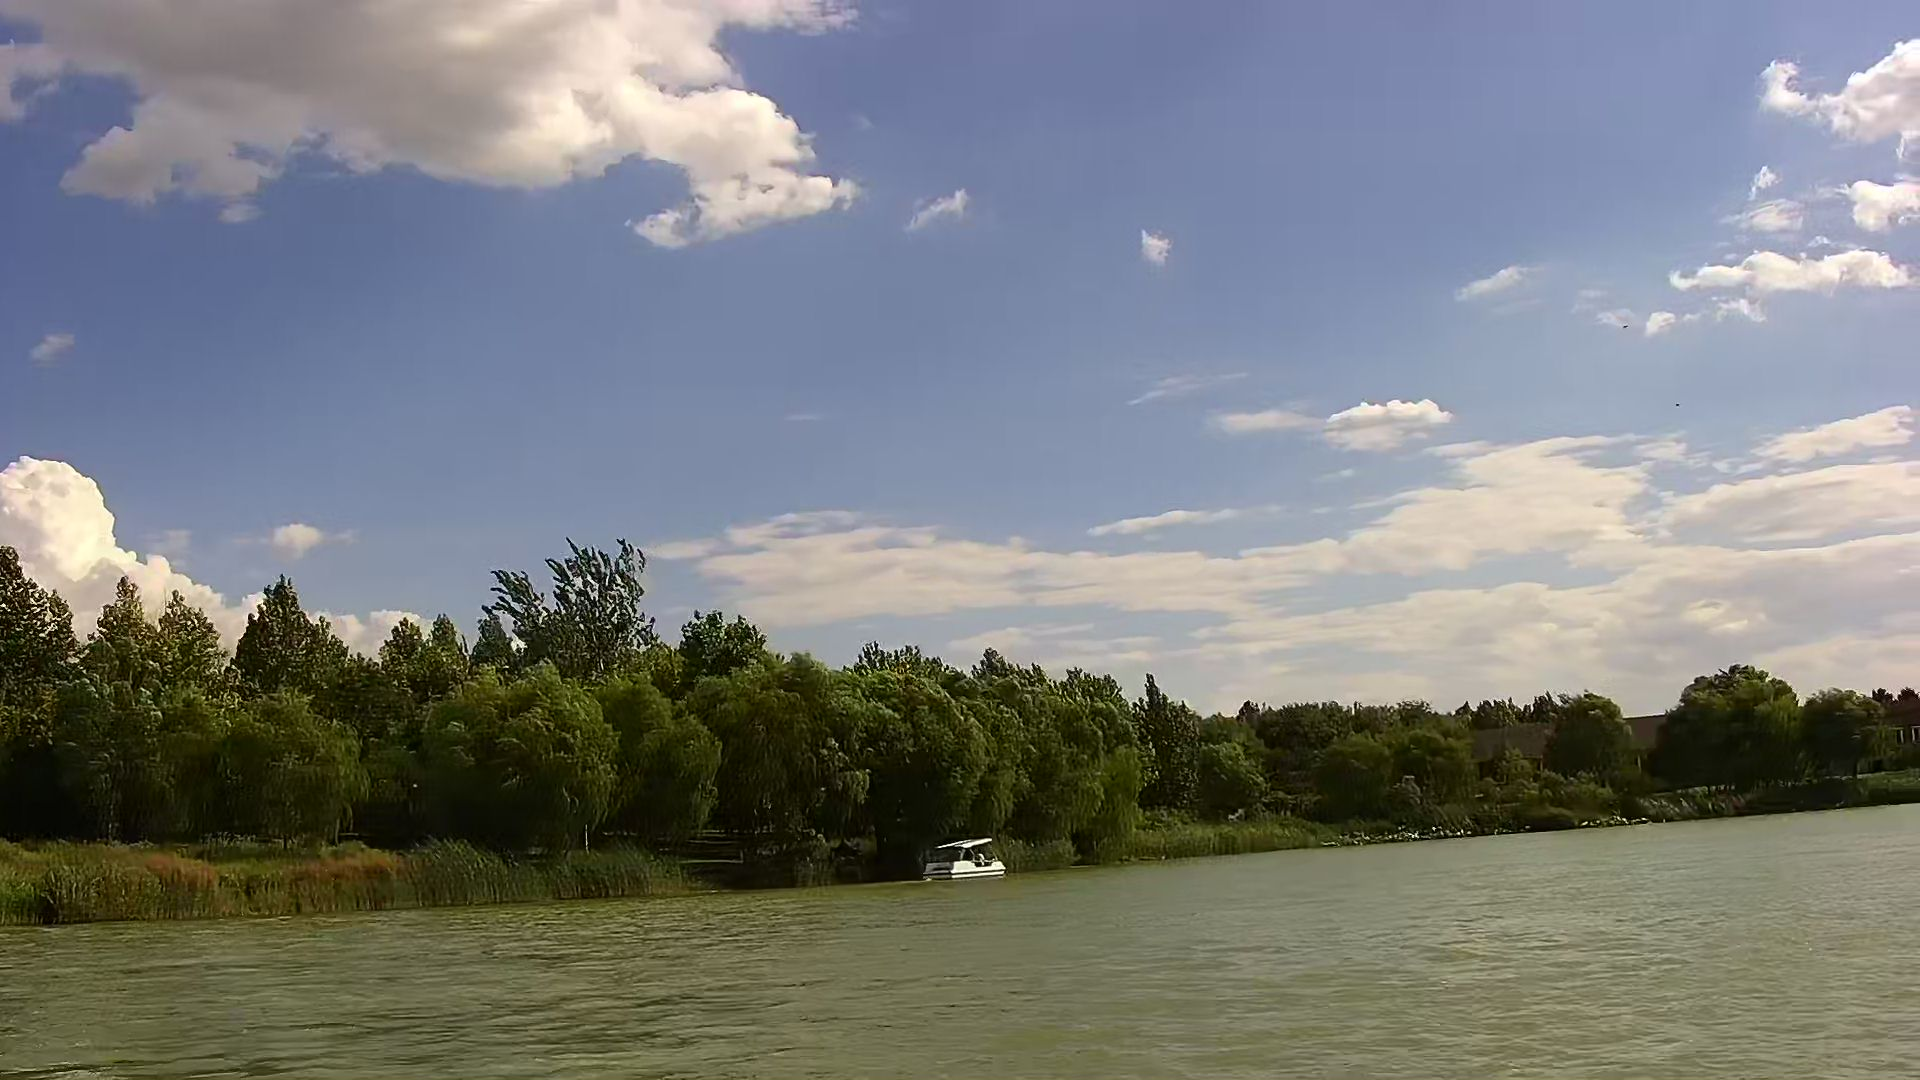boat: (919, 833, 1001, 876)
